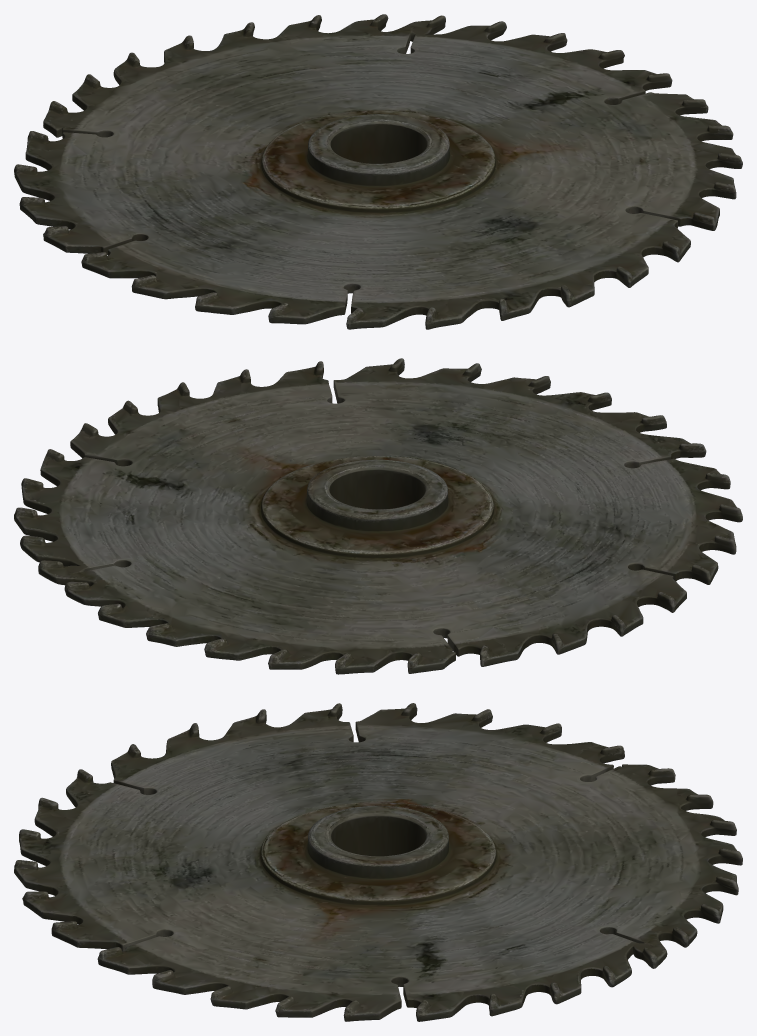
Rendered from Blade3.fbx.
3 renders of one model, top to bottom at view 1: azimuth 30°, elevation 25°; view 2: azimuth 150°, elevation 25°; view 3: azimuth 270°, elevation 25°, orthographic.
Visible parts, largest first — view 1: Blade3; view 2: Blade3; view 3: Blade3.
Boxes of the visible parts, left/top/right/bottom form: Blade3: left=14, top=14, right=742, bottom=329; Blade3: left=14, top=358, right=742, bottom=674; Blade3: left=14, top=703, right=742, bottom=1021.
Bounding box in the file's own units: 57.06 × 5.48 × 57.05.
